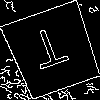T: (27, 25, 73, 78)
